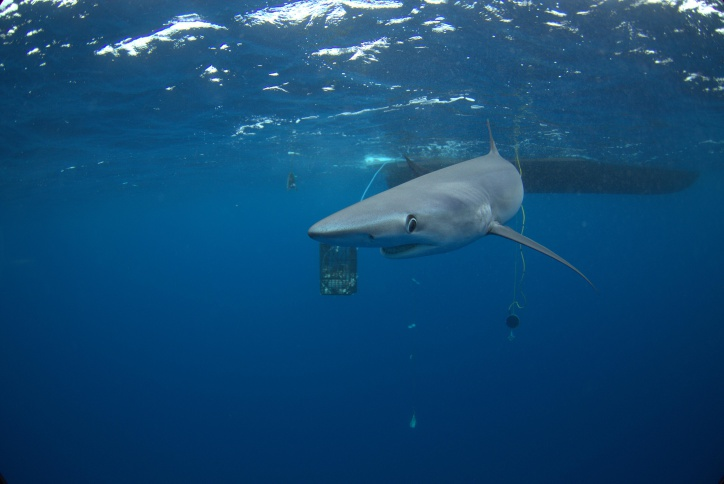Azul: (295, 126, 602, 291)
